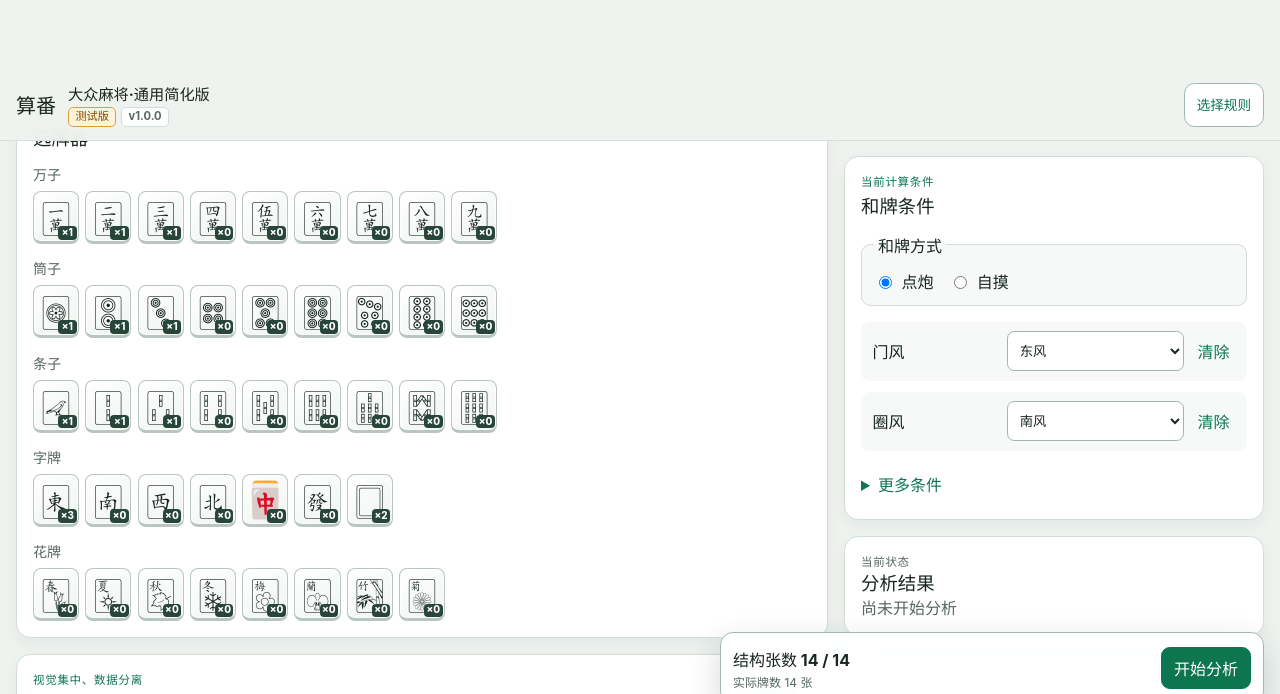
Test: CalculatorPage Batch 13 interaction › shows structural and physical counts and all four action-bar states
Expected: the text "结构张数 14 / 14" is shown, [733,646,850,670]
Expected: the text "实际牌数 14 张" is shown, [733,675,812,690]
Click the button "开始分析" at (1206, 668), box [1161,647,1251,689]
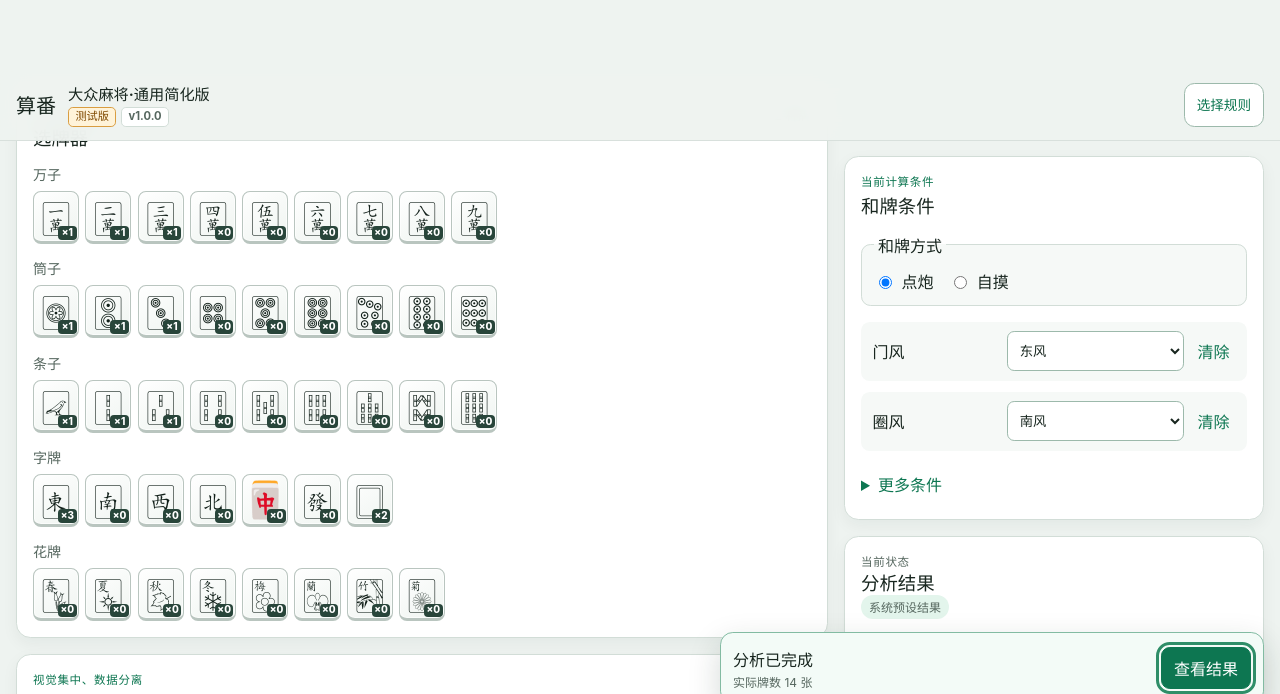
Result: the text "分析已完成" is shown at [733,646,813,670]
Result: the button "查看结果" is shown at [1161,647,1251,689]
